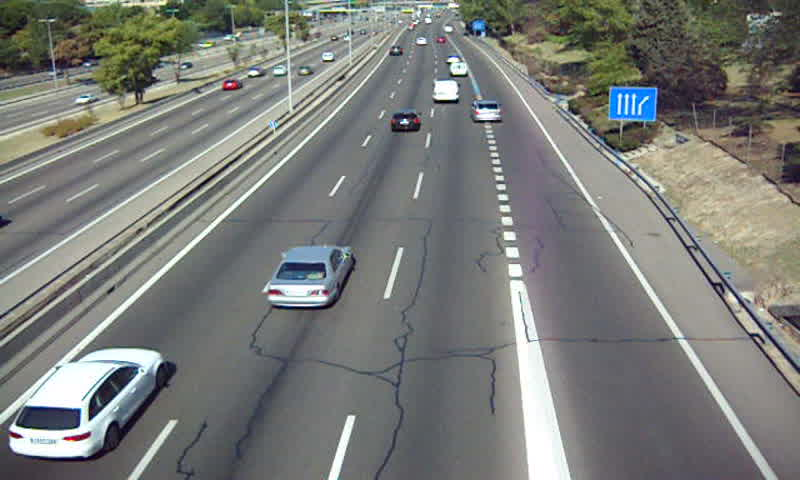car: (10, 348, 167, 458), (266, 244, 354, 310), (472, 99, 504, 124), (390, 110, 420, 134)
van: (432, 79, 460, 104), (451, 61, 468, 78)
